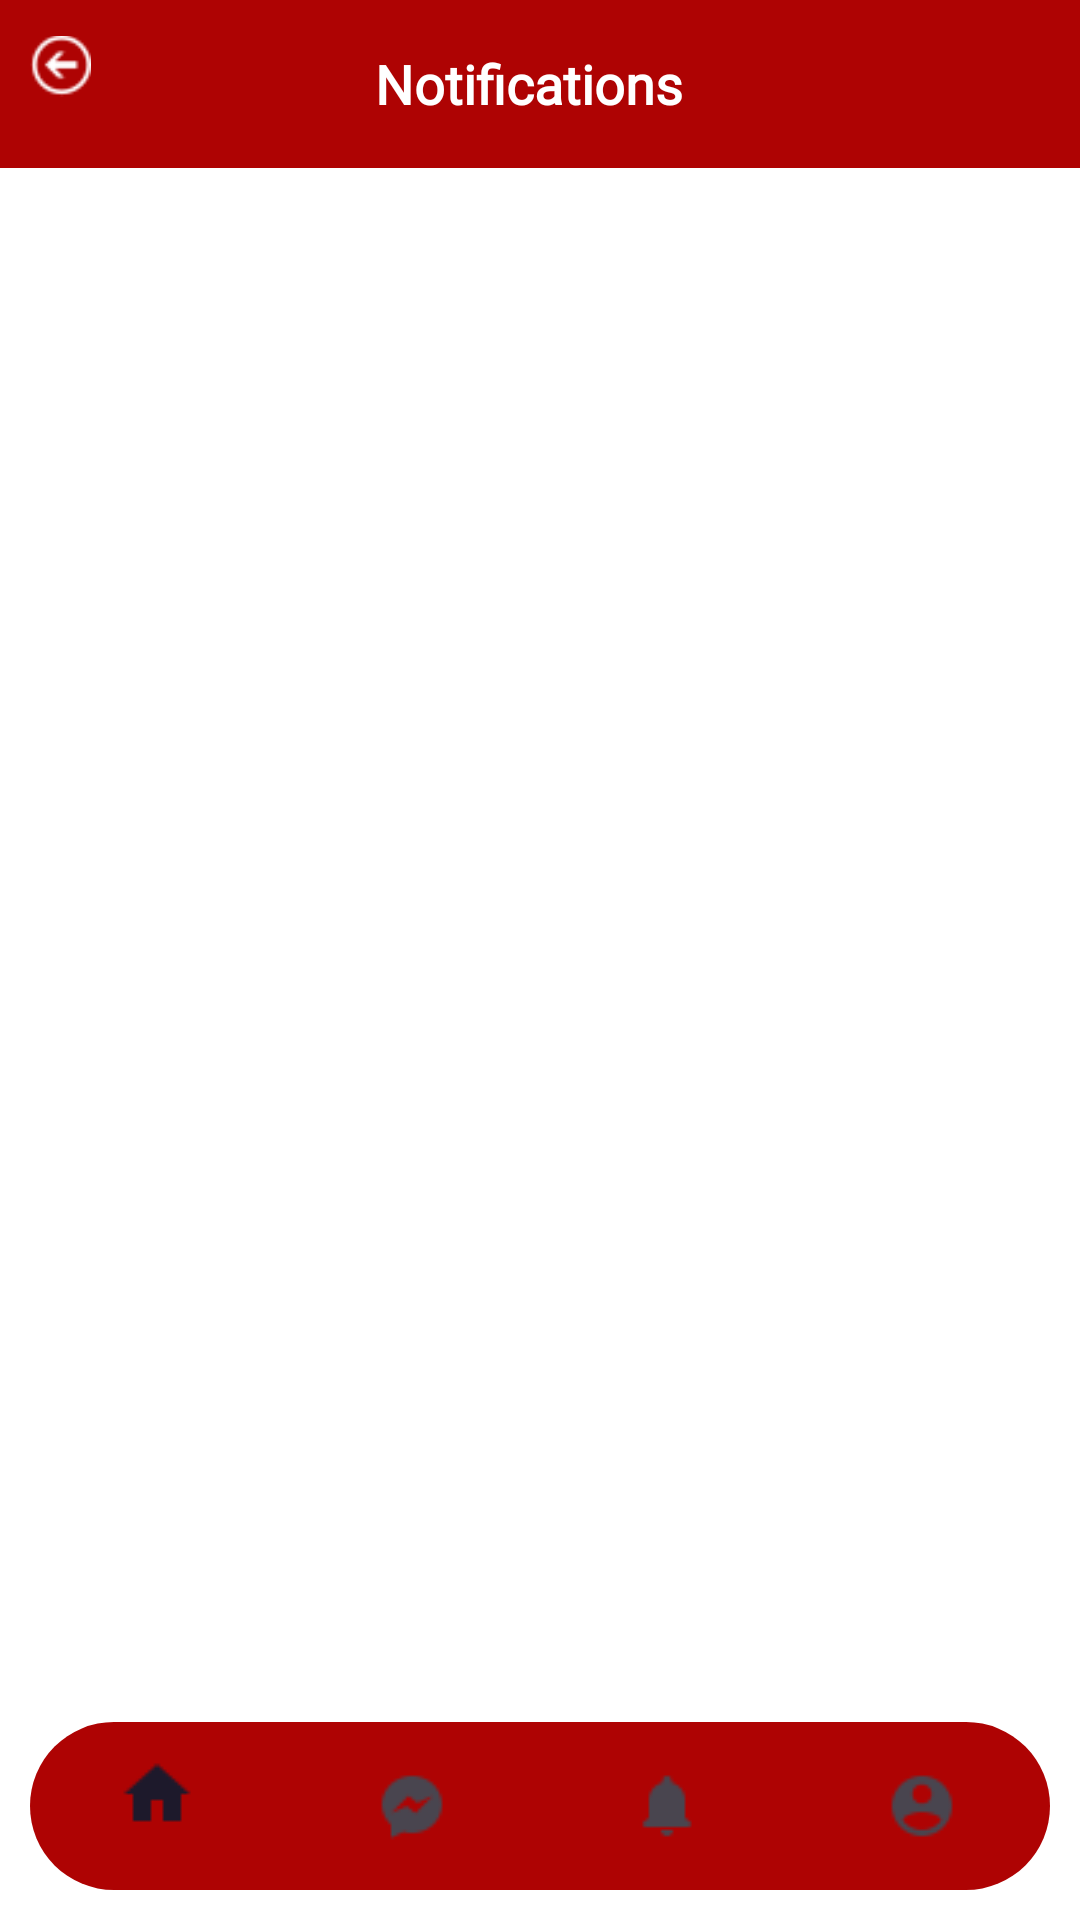

Where icons sit on this 1080 x 1920 app screen, as (x1, y1, x2, y2):
backarrow: (31, 36, 91, 95)
